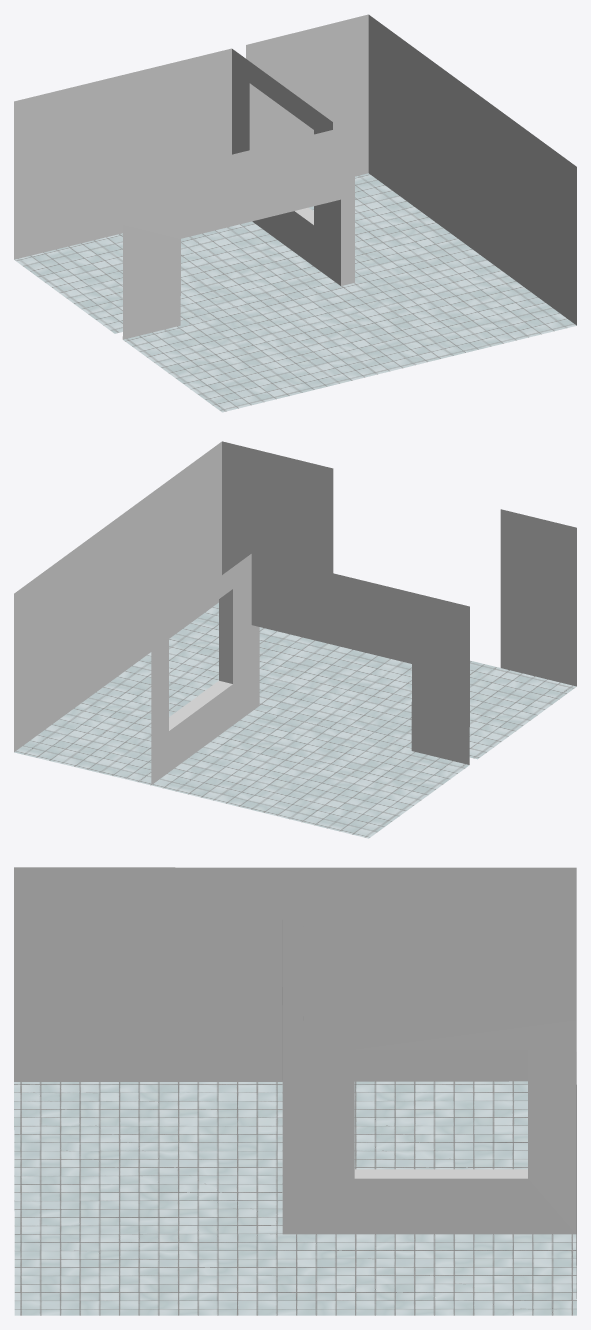
The model's file is rz_cont1_testroom_std.glb.
The picture shows the model from 3 angles, top to bottom: view 1: azimuth 30°, elevation 25°; view 2: azimuth 150°, elevation 25°; view 3: azimuth 270°, elevation 25°; orthographic projection. The views are drawn at different scales.
Parts seen in each view (by area): view 1: Cube; view 2: Cube; view 3: Cube.
Boxes of the visible parts, box(x1,y1,x2,y2) form: Cube: box(14, 14, 576, 412); Cube: box(14, 441, 576, 838); Cube: box(14, 867, 576, 1315).
Size of the model in its own units: 16.97 by 7.26 by 17.26.
3 materials, 2 textured.
